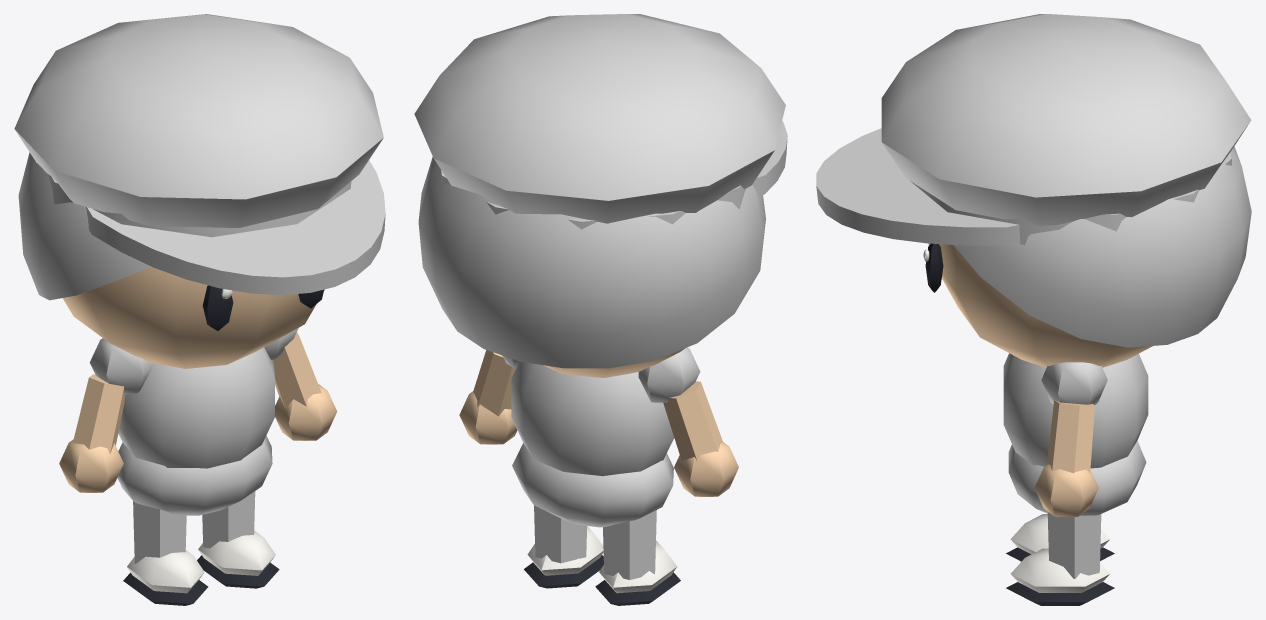
File: guyh_captain.fbx
3 views of the same model, side by side, from view 1: azimuth 30°, elevation 25°; view 2: azimuth 150°, elevation 25°; view 3: azimuth 270°, elevation 25° (orthographic).
Visible parts, largest first — view 1: guyh_captain; view 2: guyh_captain; view 3: guyh_captain.
Part boxes in pixels (bbox=[...]): guyh_captain: bbox=[14, 14, 385, 605]; guyh_captain: bbox=[414, 14, 787, 605]; guyh_captain: bbox=[816, 14, 1251, 605].
Size of the model in its own units: 0.4661 by 0.7567 by 0.5535.
